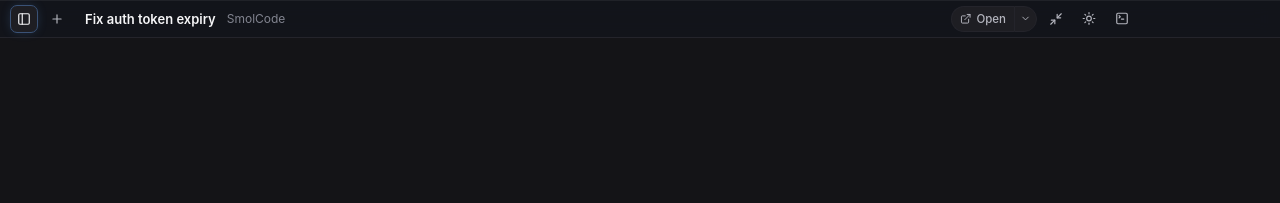
Test: SmolCode UI components › triggers Open with preferredEditor, persists dropdown choice, and closes menu on Escape
Later steps or results of the test are not shown.
Click the button "Open": (982, 18) [951,6,1014,32]
Click the button named "Choose external editor": (1026, 18) [1014,6,1037,32]
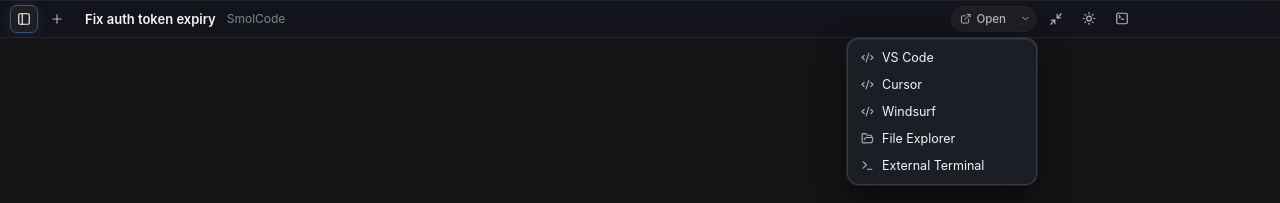
Check: the menu named "Open workspace in" is shown, box [847,38,1037,184]
Click the menu item "VS Code": (942, 57) [853,44,1031,70]
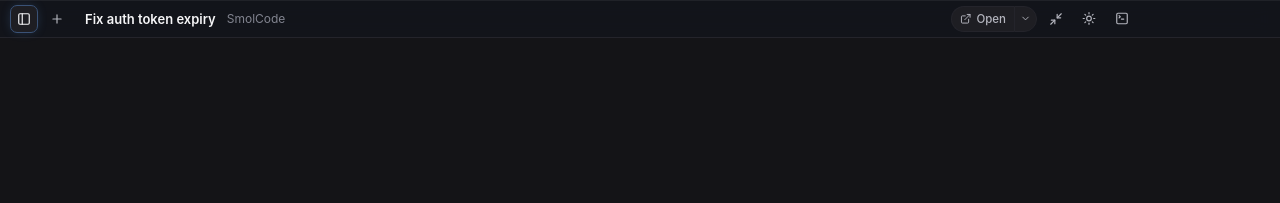
Click the button named "Choose external editor": (1026, 18) [1014,6,1037,32]
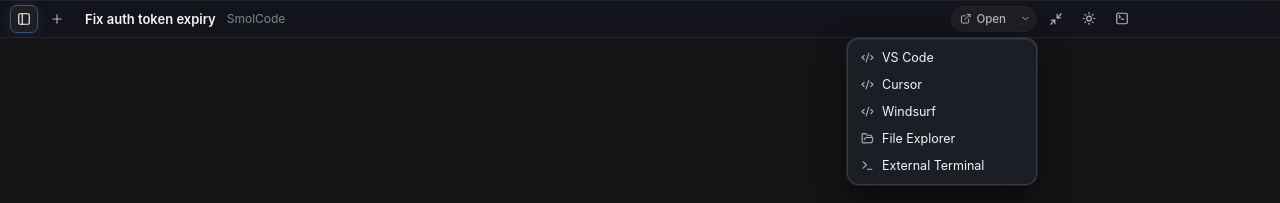
Check: the menu named "Open workspace in" is shown, box [847,38,1037,184]
